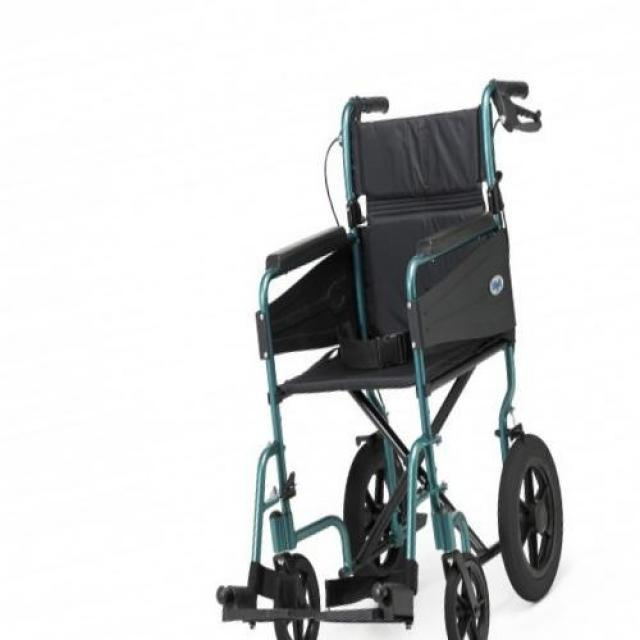wheelchair: (200, 64, 586, 640)
